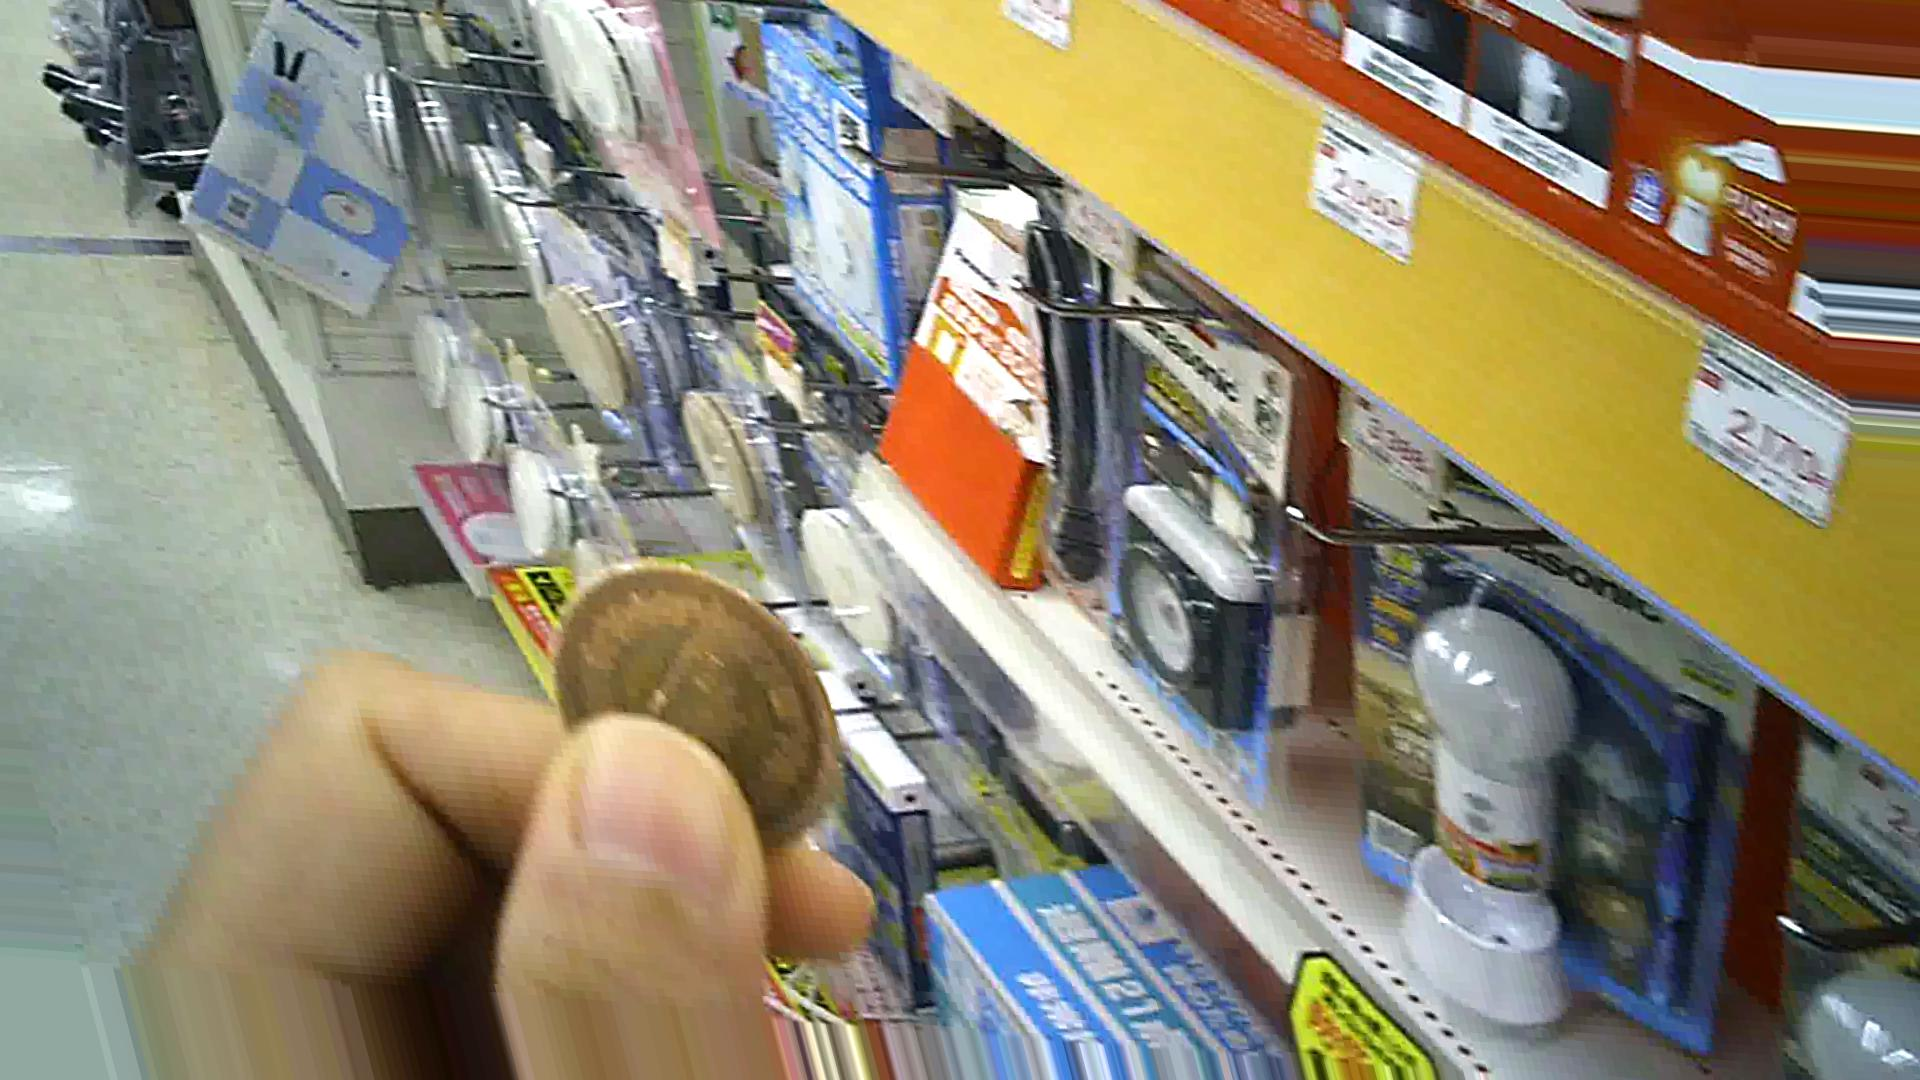10 Yen: (545, 537, 837, 851)
